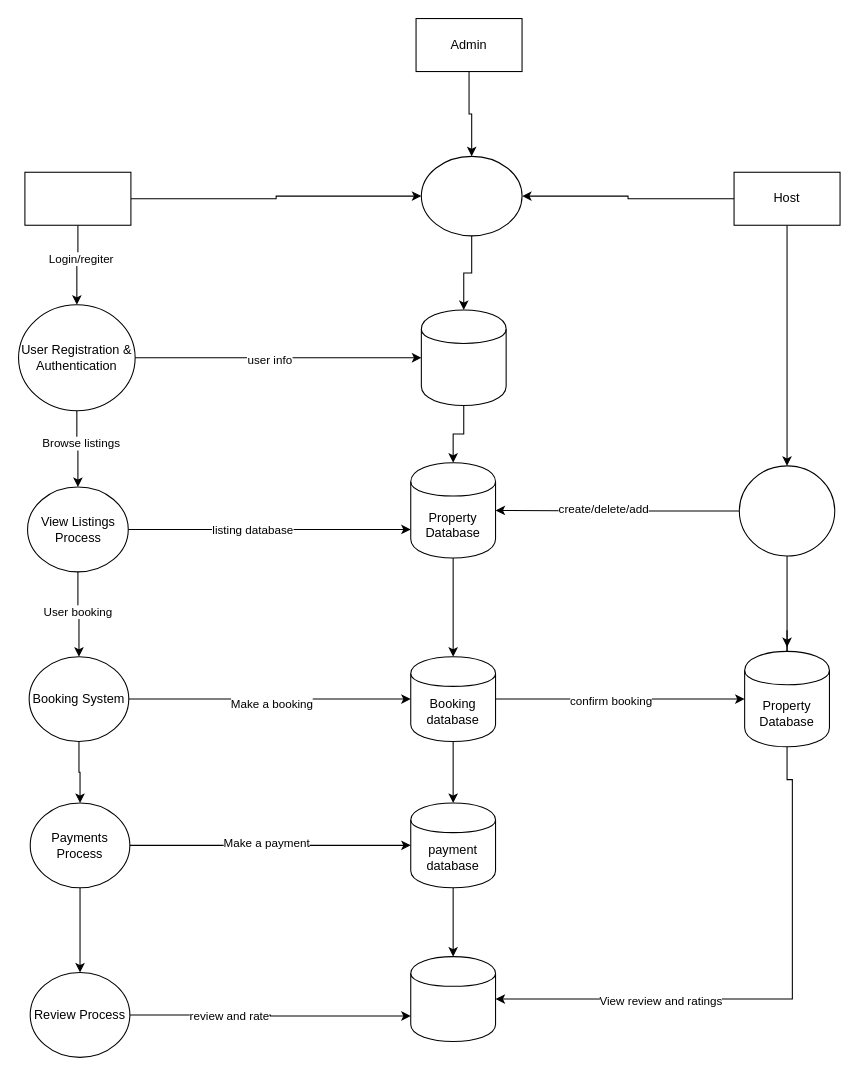
The diagram is 859 pixels wide and 1076 high, and some of its shapes have lost their labels. Here are the shapes that lost their labels. From the top down, the box of each, then its label:
(24, 171, 131, 225): Guest
(420, 155, 522, 236): Admin Oversight
(420, 309, 506, 405): user database
(738, 465, 835, 556): Property Management
(410, 956, 496, 1041): review database
